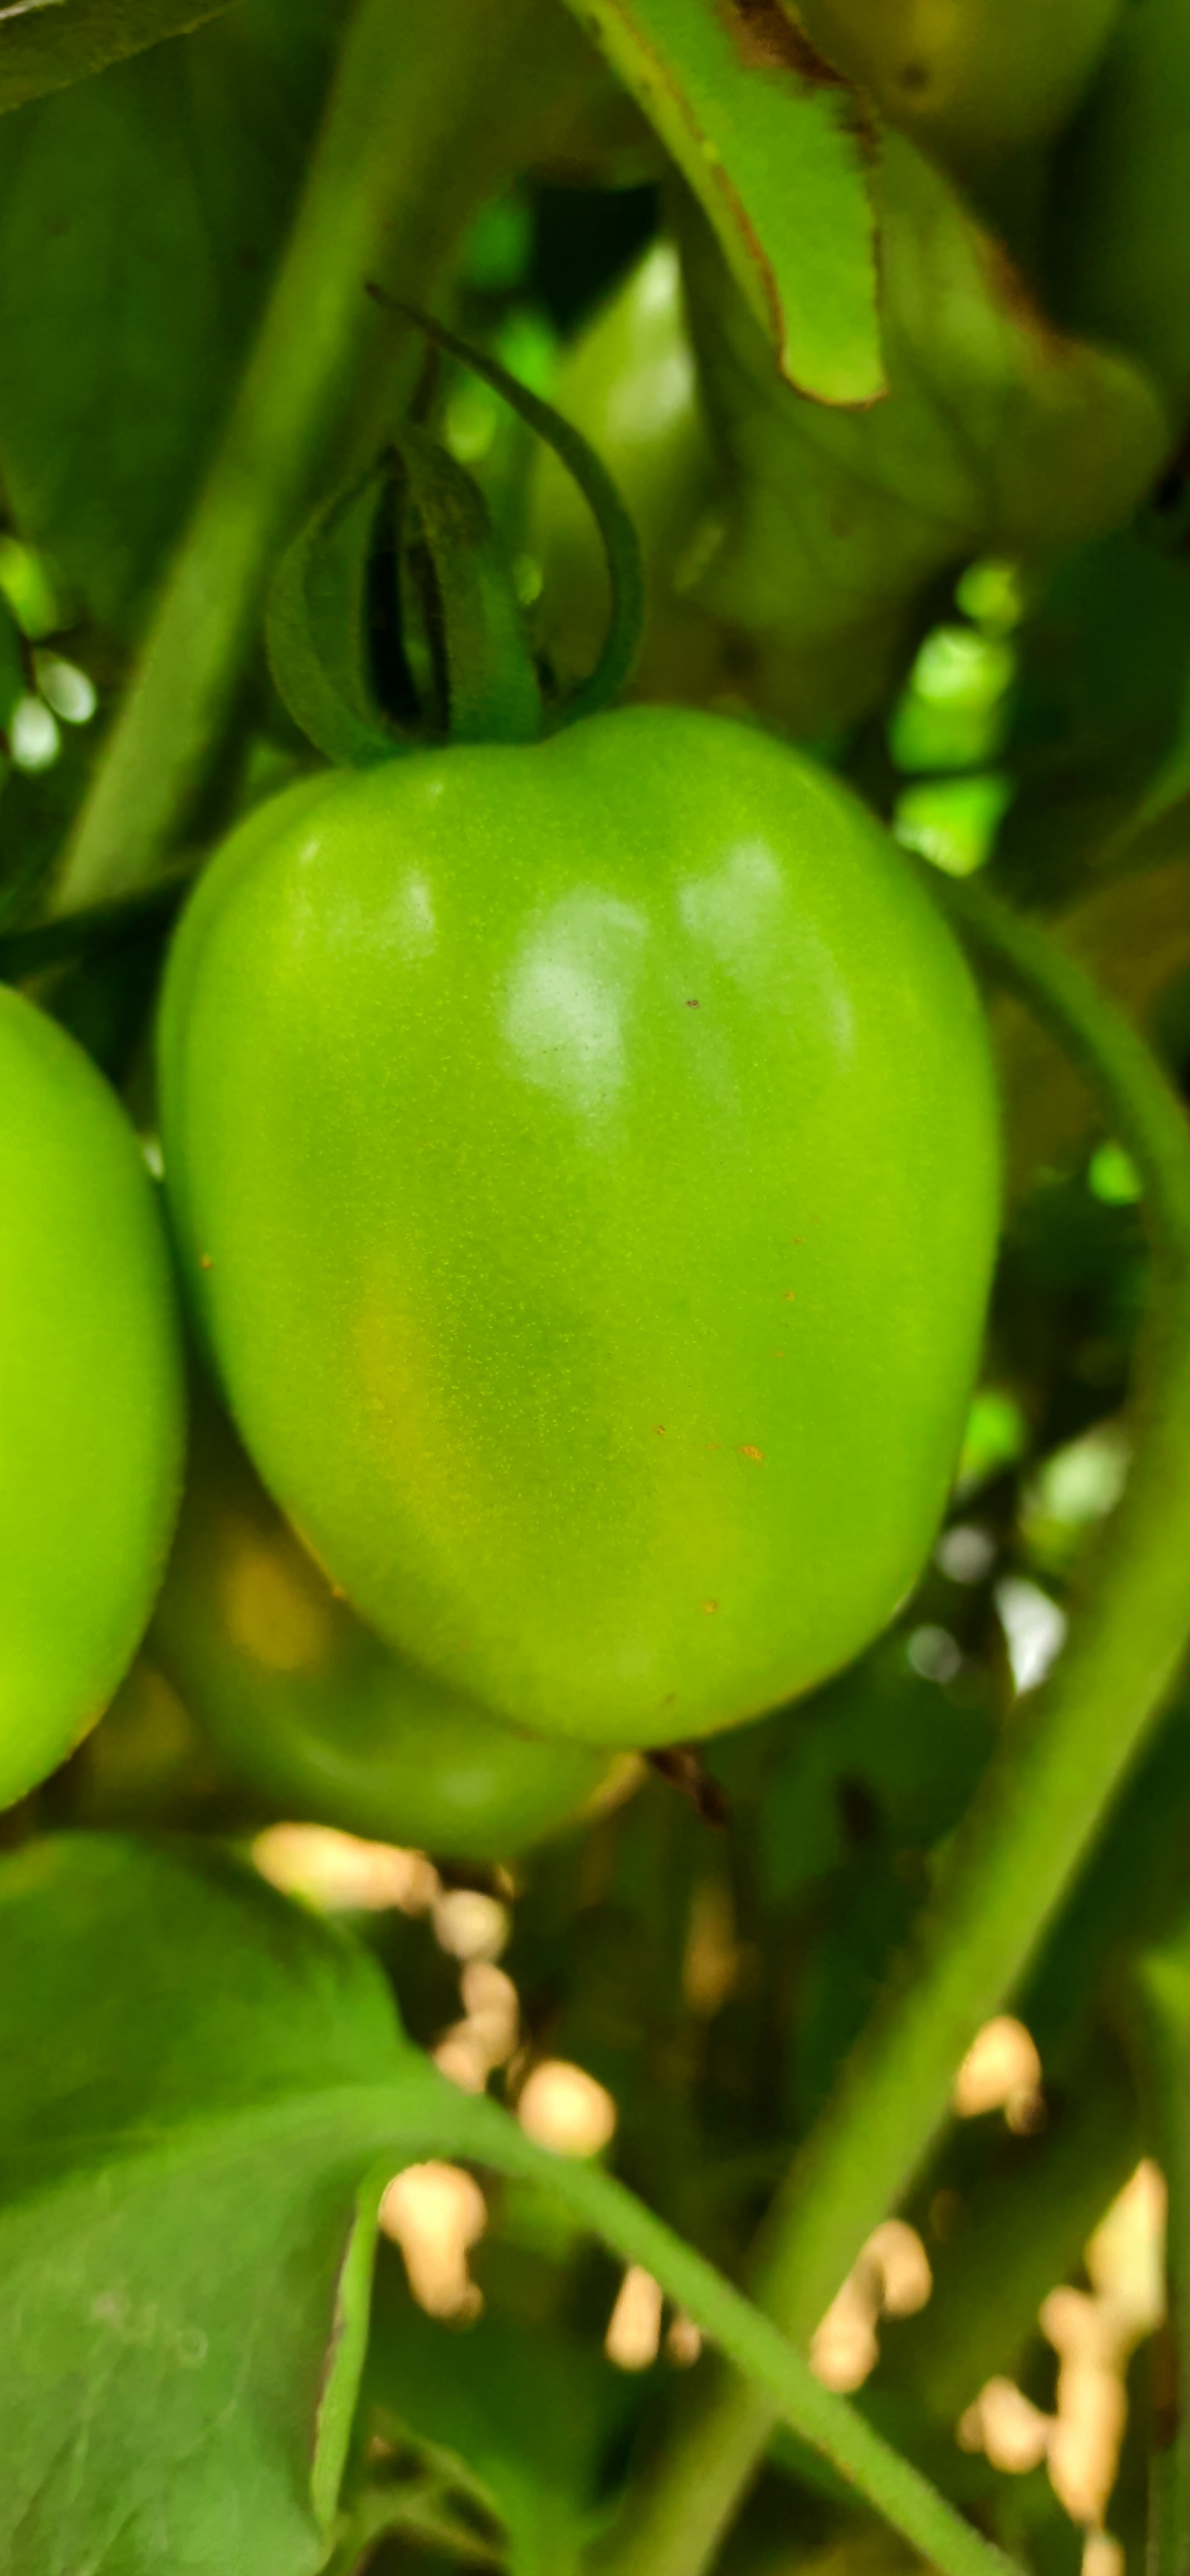raw_tomato: (94, 565, 1047, 1809)
